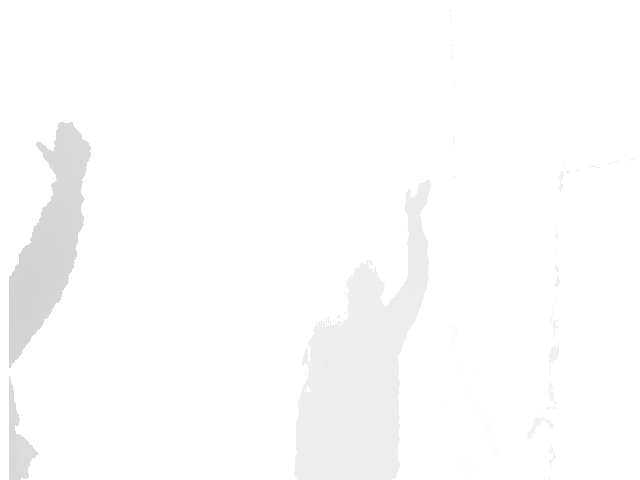hand: (35, 120, 91, 195), (405, 179, 432, 220)
head: (346, 260, 385, 321)
person: (294, 178, 432, 479), (9, 119, 91, 480)
